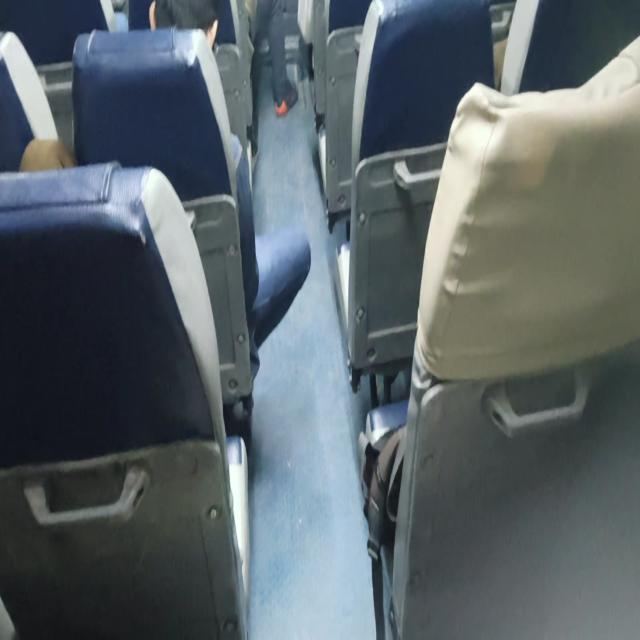person: (370, 33, 639, 637), (19, 1, 311, 443), (148, 1, 312, 380), (247, 0, 299, 158), (148, 0, 219, 50), (19, 136, 76, 172)
